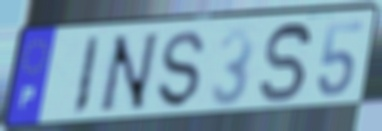3: (210, 25, 257, 109)
5: (315, 19, 365, 99)
I: (70, 33, 103, 119)
N: (94, 30, 162, 118)
S: (258, 20, 314, 106), (156, 29, 208, 111)
